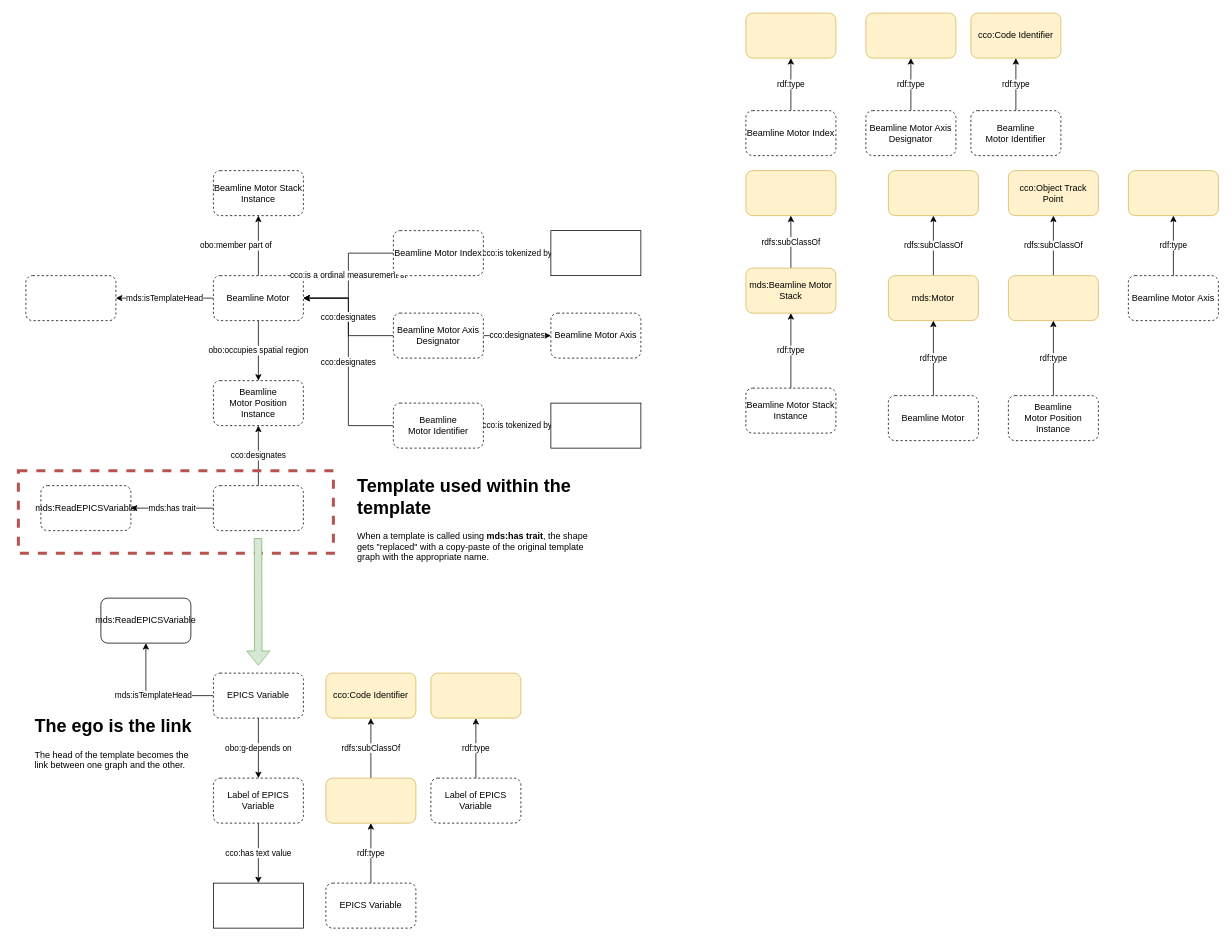
Image size: 1232x941. Some labels were removed from this diagram. Here are the shapes that lost their labels. From the top down, the centre of each, then its label:
pixel 790 35: cco:Sequence Position Ordinality
pixel 910 35: cco:Designative Information Content Entity
pixel 790 193: cco:Object Aggregate
pixel 933 193: cco:Electric Motor
pixel 1173 193: cco:Coordinate System Axis
pixel 595 253: "Beamline Motor Index Value"^^xsd:string
pixel 70 298: mds:BeamlineMotorTemplate
pixel 1053 298: mds:Beamline Motor Position
pixel 595 425: "Beamline Motor Identifier Value"^^xsd:string
pixel 258 508: Beamline Motor Position Identifier
pixel 475 695: cco:IBE
pixel 370 800: mds:EPICS PV Variable
pixel 258 905: "Value"^^xsd:string
